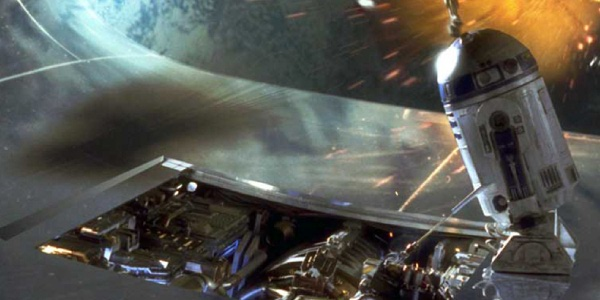r2d2: (435, 27, 581, 276)
